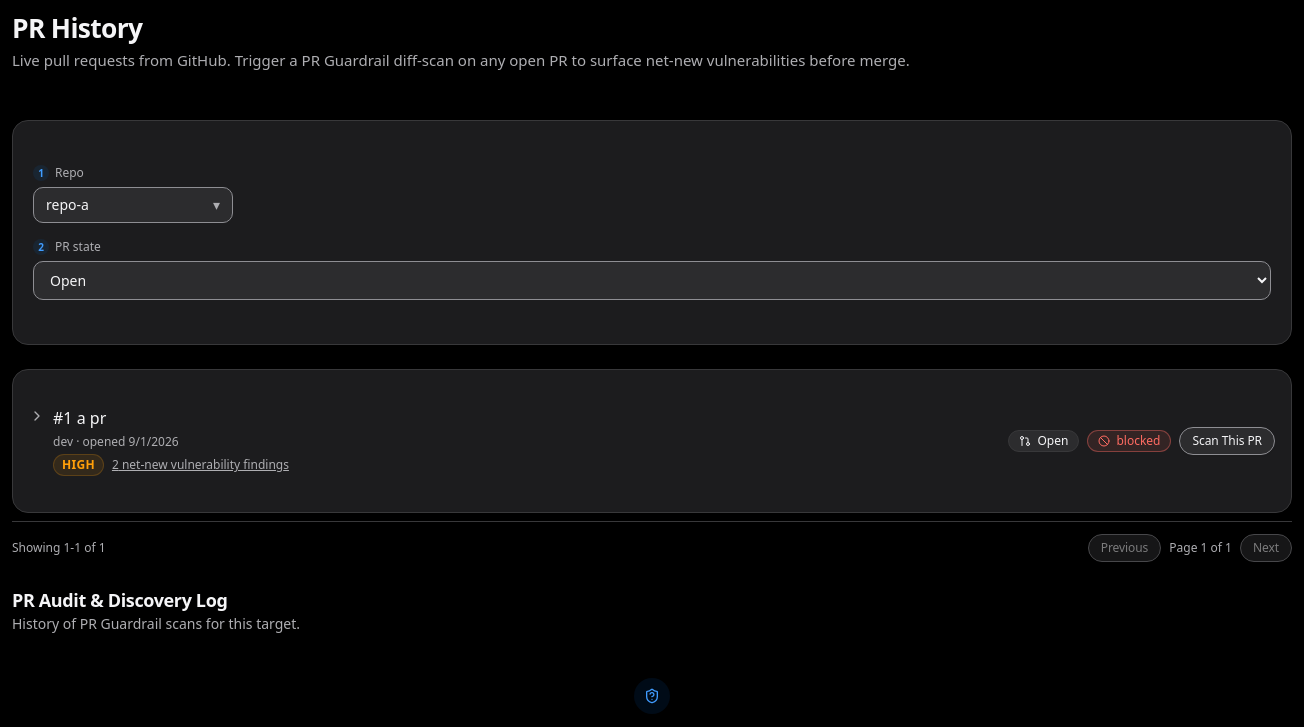
Test: expanding a PR into its findings › expands a scanned PR into the vulnerabilities that scan found
Expected: the link "#1 a pr" is shown, x1=53 y1=406 x2=106 y2=430
Expected: the text "finding 7" is not shown
Click the button named "Show findings for PR #1" at (37, 416), box x1=29 y1=408 x2=45 y2=424
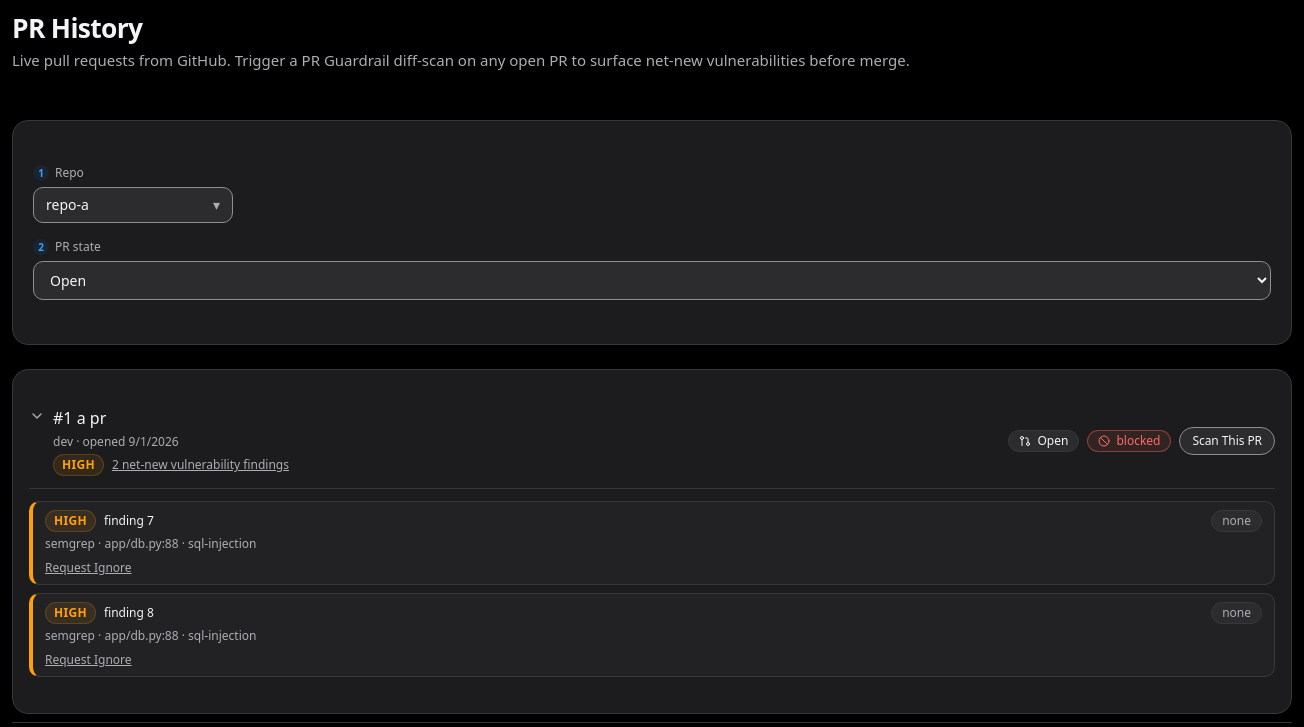
Now the text "finding 7" is shown, box x1=104 y1=513 x2=154 y2=529
Now the text "finding 8" is shown, box x1=104 y1=605 x2=154 y2=621
